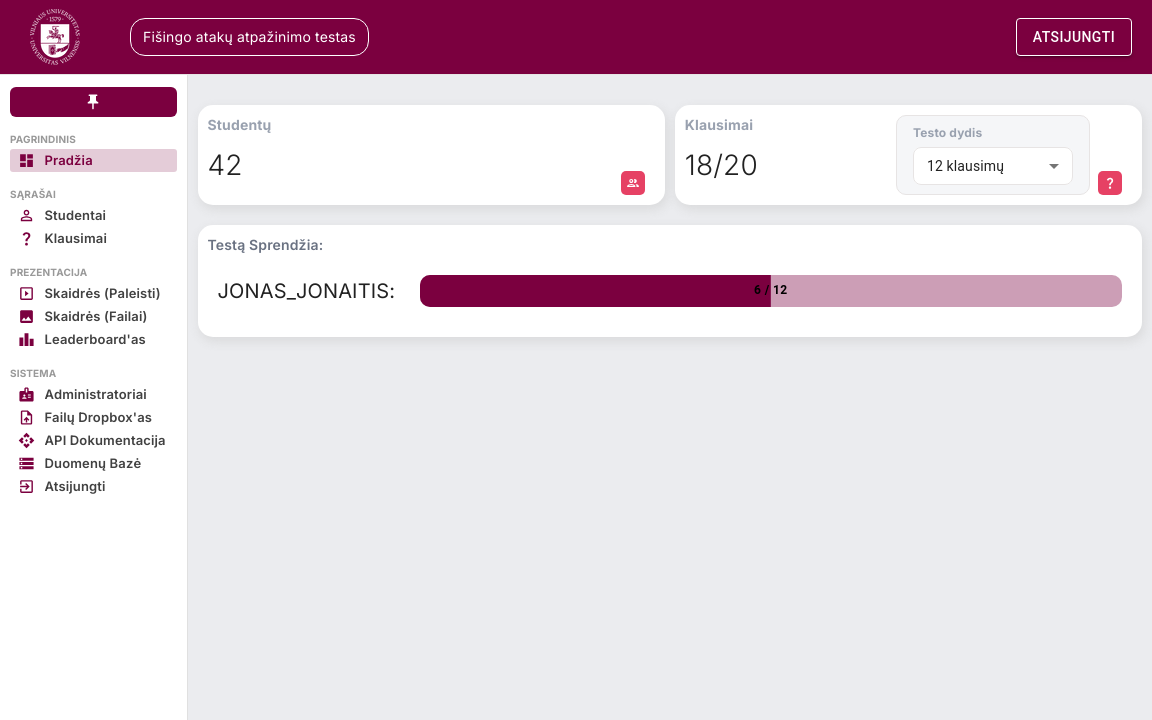
Test: Home — the test-size picker › sends nothing when the size already shown is picked again
Expected: the text "Studentų" is shown, x1=208 y1=115 x2=271 y2=135
Click the dropdown labelled "12 klausimų" at (966, 166), box x1=927 y1=158 x2=1004 y2=174
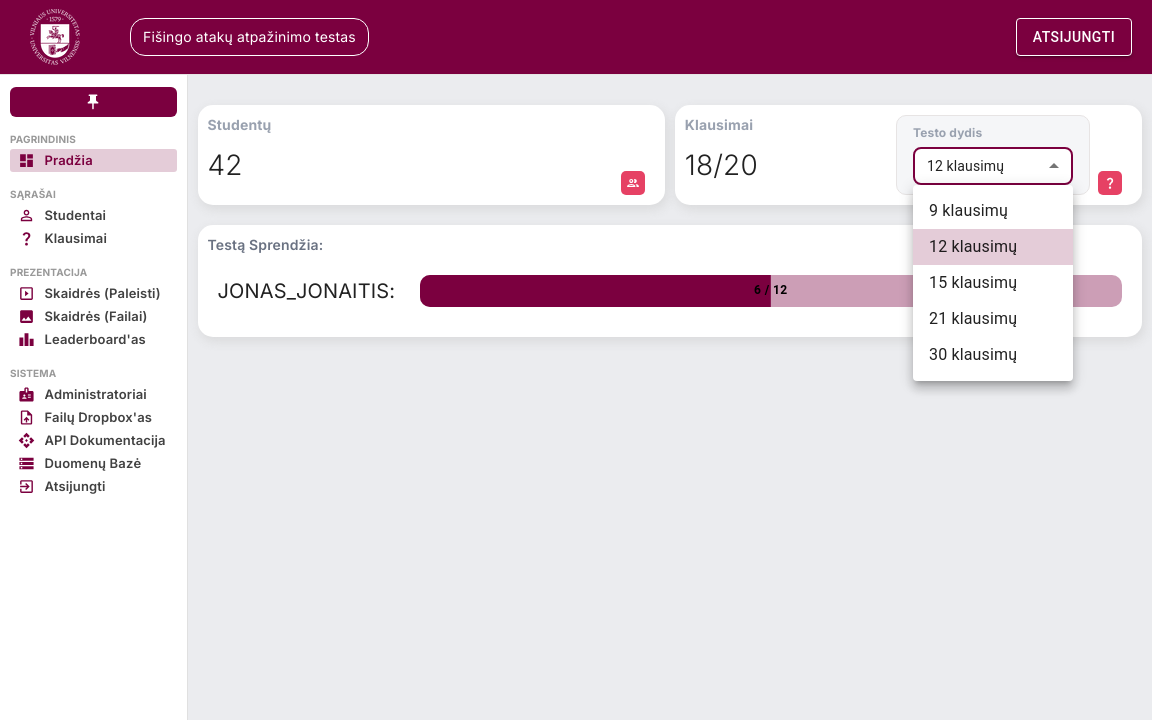
Click the option "12 klausimų" at (993, 247), box x1=913 y1=229 x2=1073 y2=265
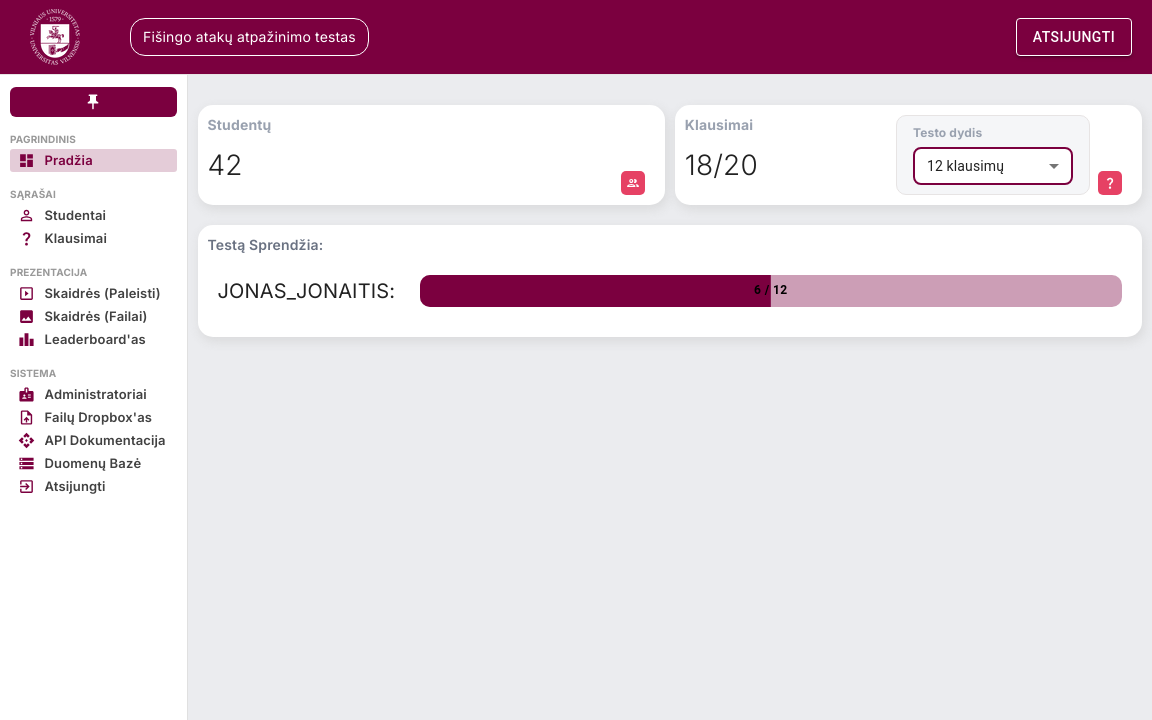
Expected: the dropdown reads "12 klausimų", x1=927 y1=158 x2=1004 y2=174
Result: the list "9 klausimų 12 klausimų 15 klausimų 21 klausimų 30 klausimų" is gone
